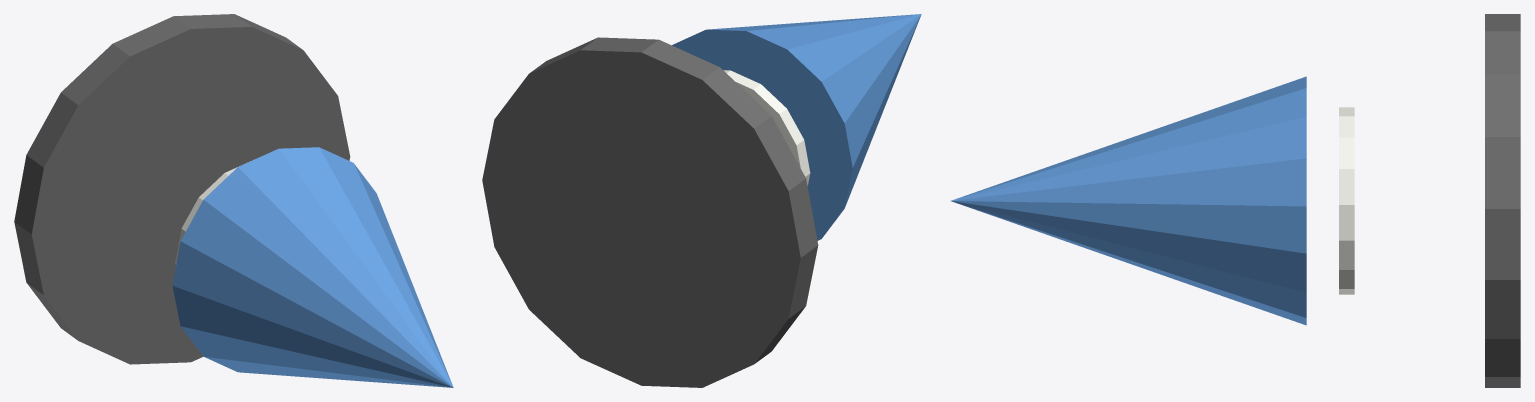
Rendered from road_traffic_cone_blue.glb.
3 renders of one model, left to right at view 1: azimuth 30°, elevation 25°; view 2: azimuth 150°, elevation 25°; view 3: azimuth 270°, elevation 25°, orthographic.
Visible parts, largest first — view 1: cone_base, cone_body, white_stripe_lower; view 2: cone_base, cone_body, white_stripe_lower; view 3: cone_body, cone_base, white_stripe_lower.
Part boxes in pixels (box(x1,y1,x2,y2)): cone_base: box(14, 14, 350, 364); cone_body: box(172, 147, 453, 387); white_stripe_lower: box(175, 161, 250, 264); cone_base: box(482, 37, 818, 387); cone_body: box(672, 14, 921, 240); white_stripe_lower: box(723, 70, 810, 185); cone_body: box(951, 76, 1306, 325); cone_base: box(1485, 14, 1520, 387); white_stripe_lower: box(1339, 107, 1354, 294).
Bounding box in the file's own units: 0.84 × 0.84 × 1.28.
